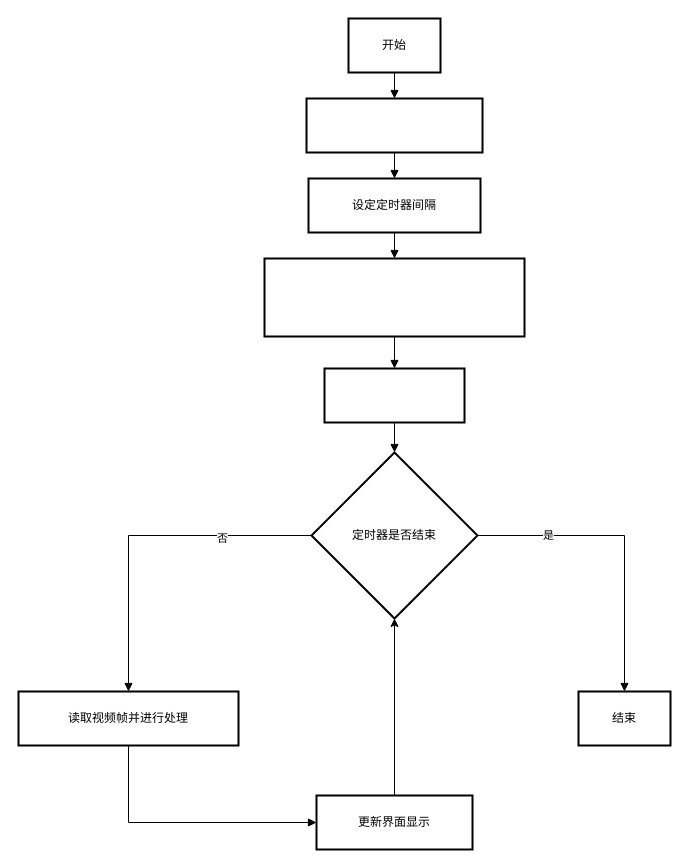
The diagram is 688 pixels wide and 867 high, and some of its shapes have lost their labels. Here are the shapes that lost their labels. From the top down, the centre of each, then its label:
pixel 394 125: 创建QTimer对象
pixel 394 297: 连接定时器超时信号到槽函数
pixel 394 395: 启动定时器
